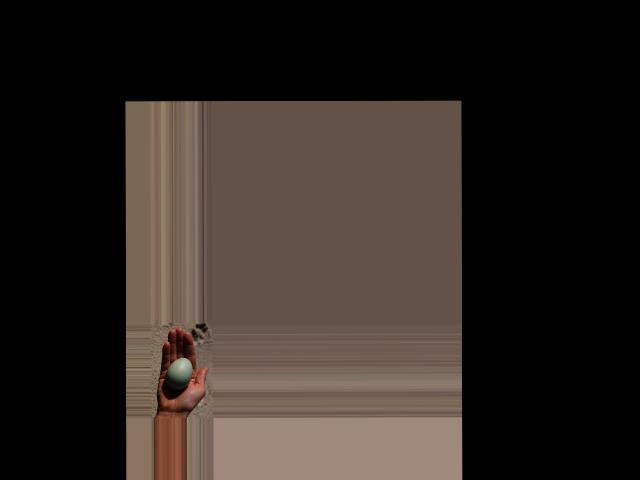egg: (165, 357, 192, 389)
